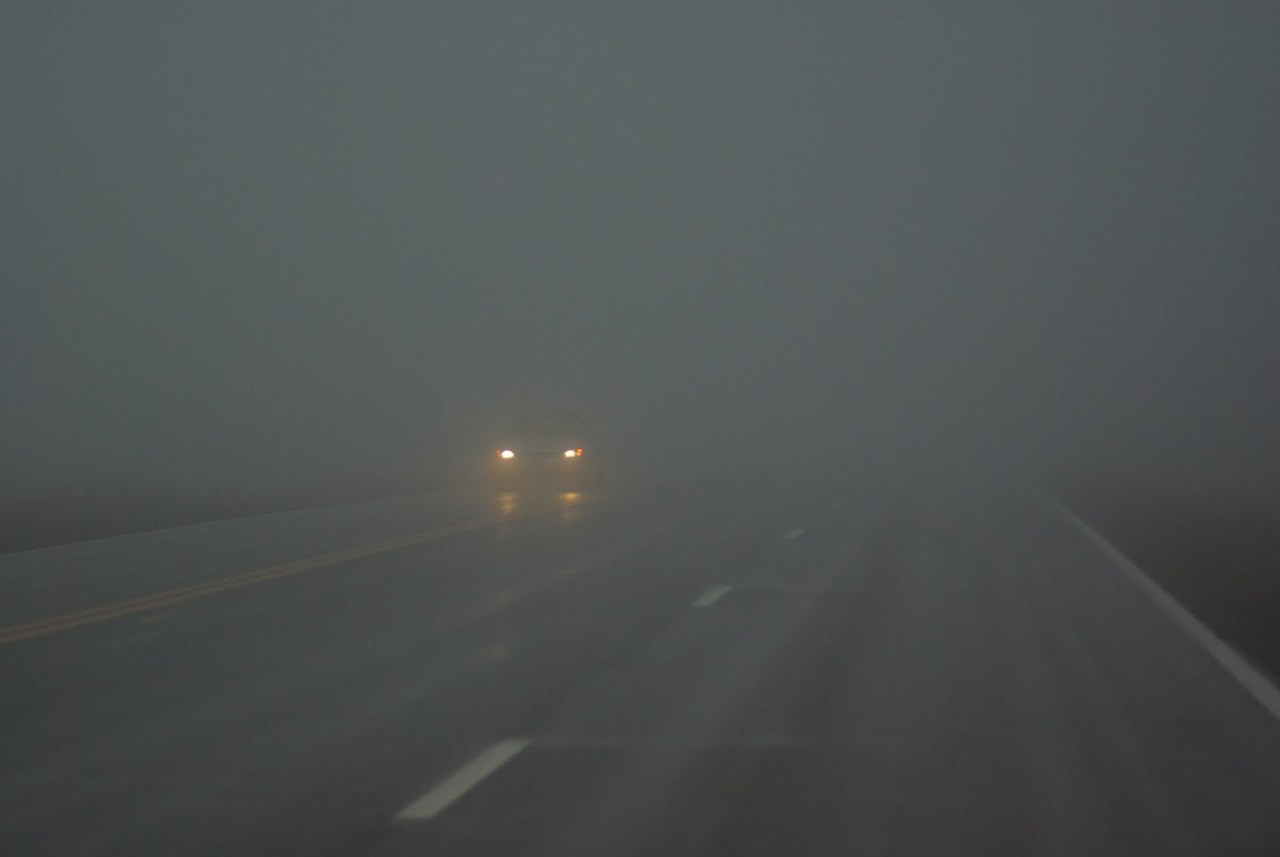car: (490, 405, 607, 494)
